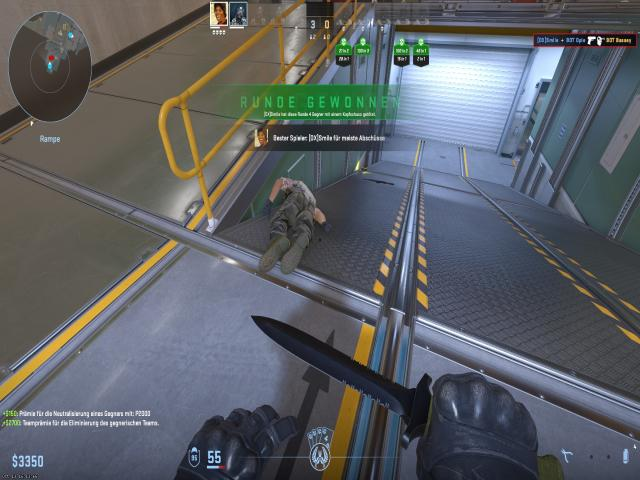Bomb: (264, 171, 320, 282)
